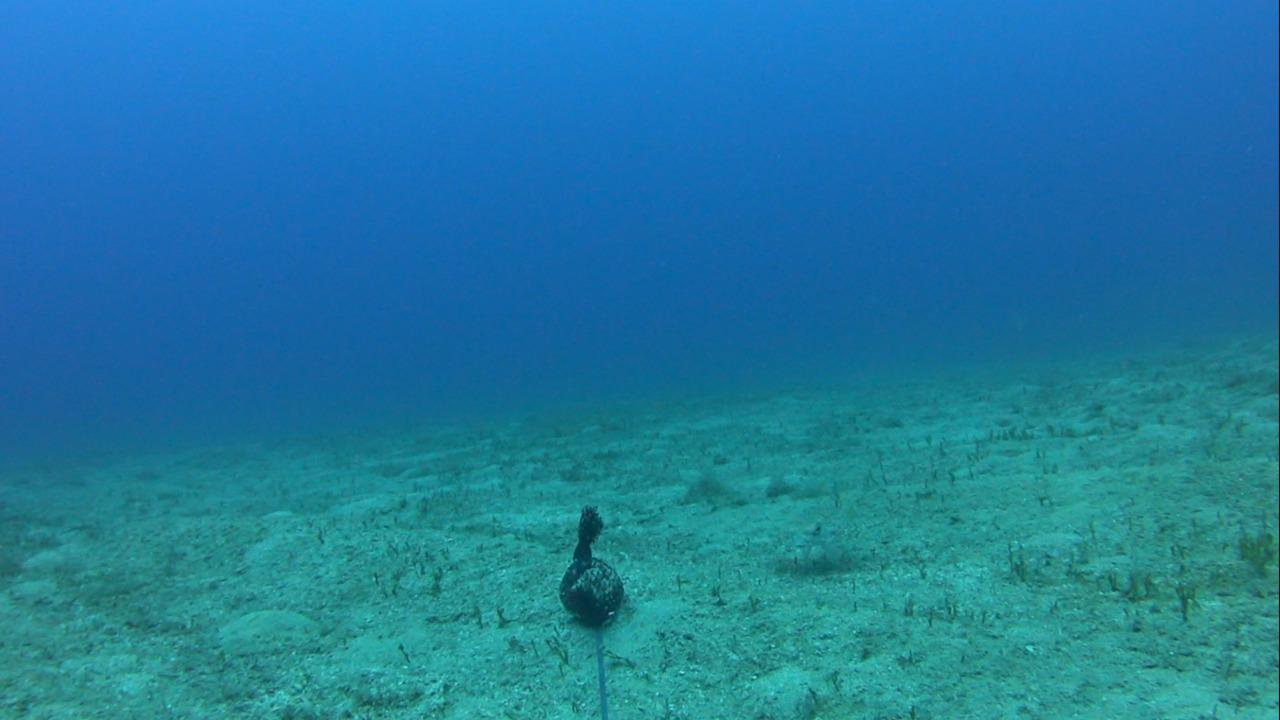dactylopterus: (770, 512, 889, 567)
